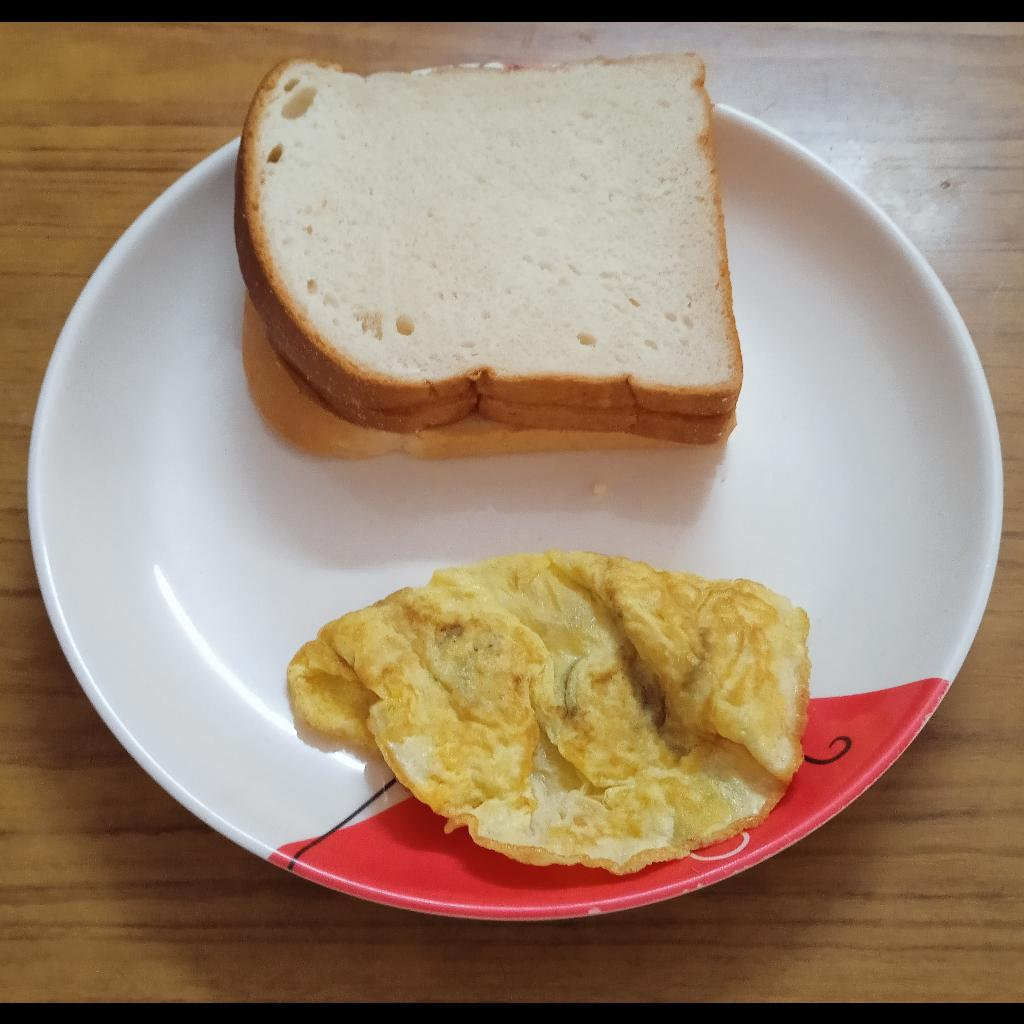bread: (232, 47, 748, 461)
egg-poached: (286, 551, 813, 877)
